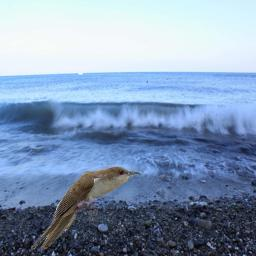Cuckoo: (31, 166, 141, 249)
